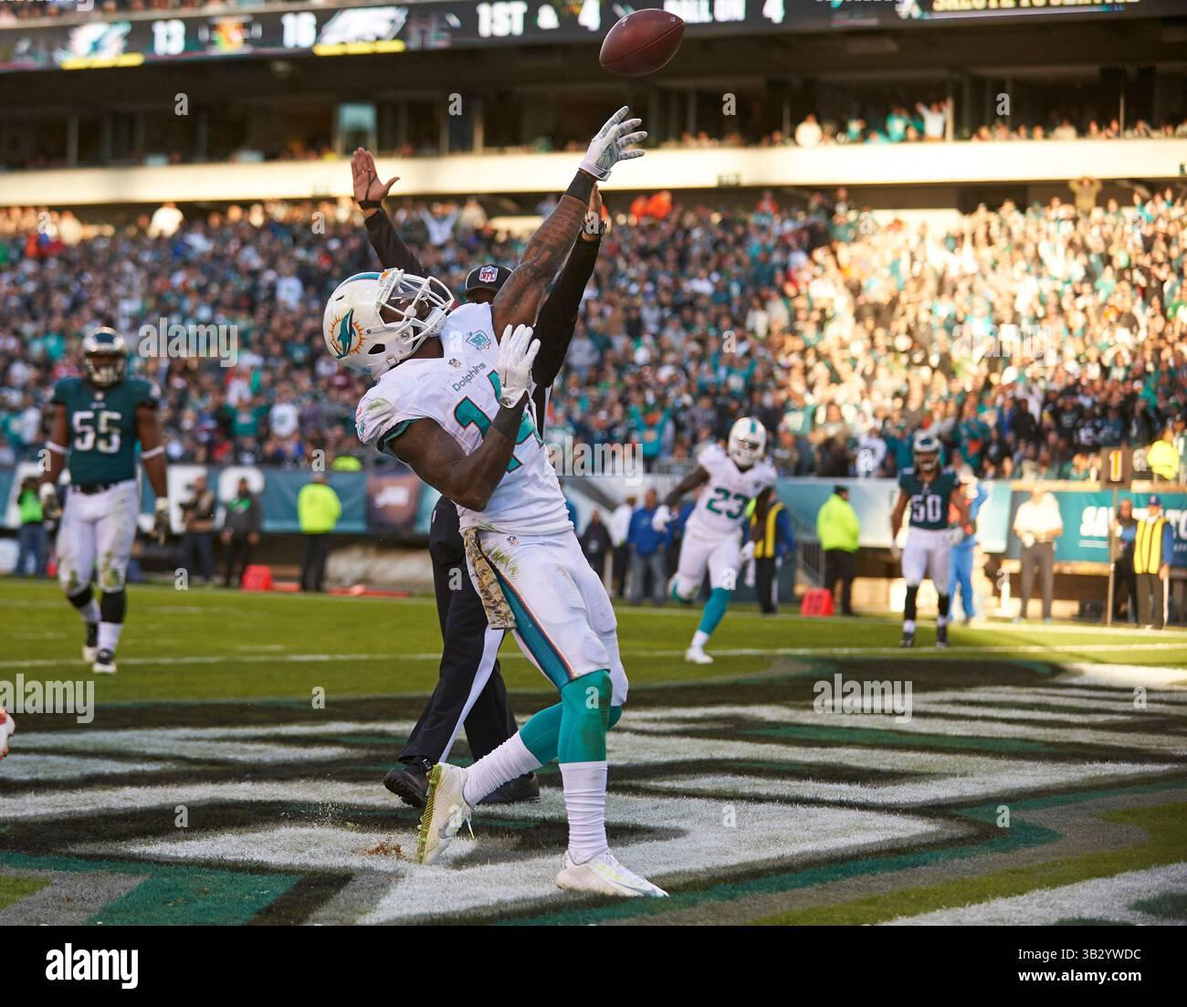americanFootball: (600, 11, 692, 76)
